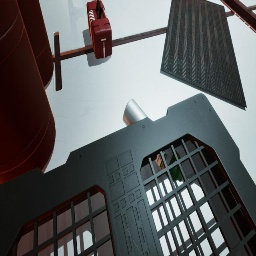0: (123, 99, 193, 192)
FirstAidBox ,: (87, 0, 112, 59)
